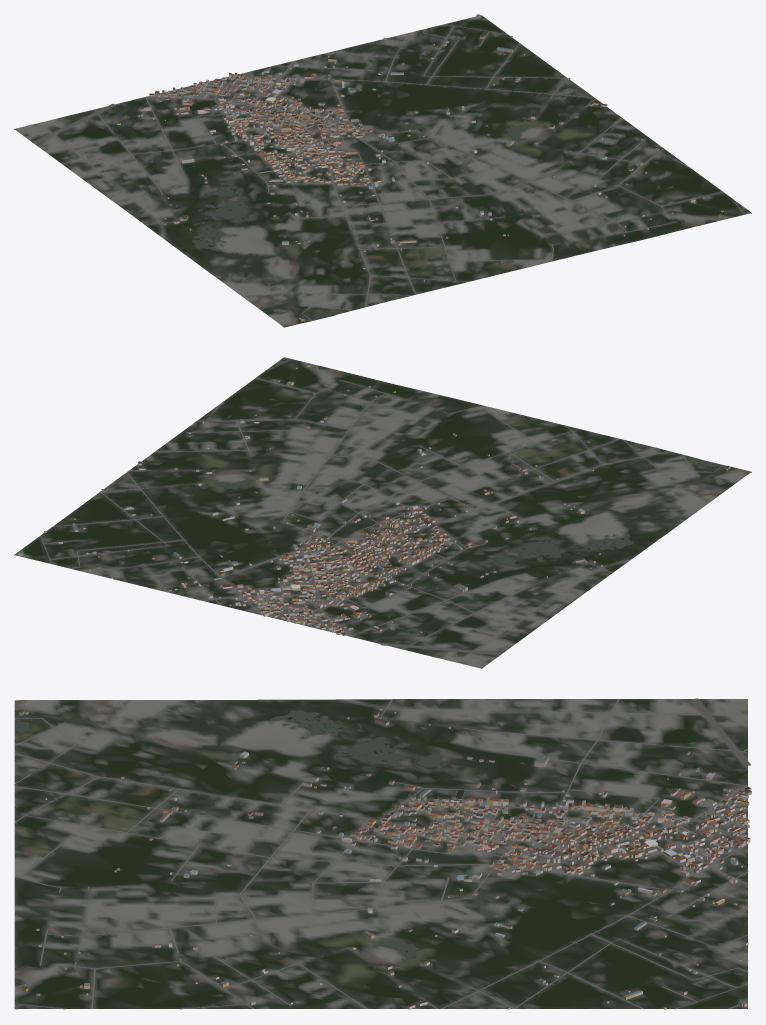
3 views of the same model, one above another, from view 1: azimuth 30°, elevation 25°; view 2: azimuth 150°, elevation 25°; view 3: azimuth 270°, elevation 25° (orthographic). The views are drawn at different scales.
Visible parts, largest first — view 1: ground, buildings, roads, water; view 2: ground, buildings, roads, water; view 3: ground, buildings, roads, water.
Part boxes in pixels (x1,y1,x2,y2): ground: (14,15,751,327); buildings: (117,14,723,321); roads: (32,17,750,320); water: (192,125,538,321); ground: (14,357,751,668); buildings: (18,364,730,636); roads: (21,357,723,662); water: (211,460,726,565); ground: (14,699,747,1009); buildings: (19,707,751,1009); roads: (14,698,750,1009); water: (15,710,443,962).
Size of the model in its own units: 1405 by 17.59 by 1411.
